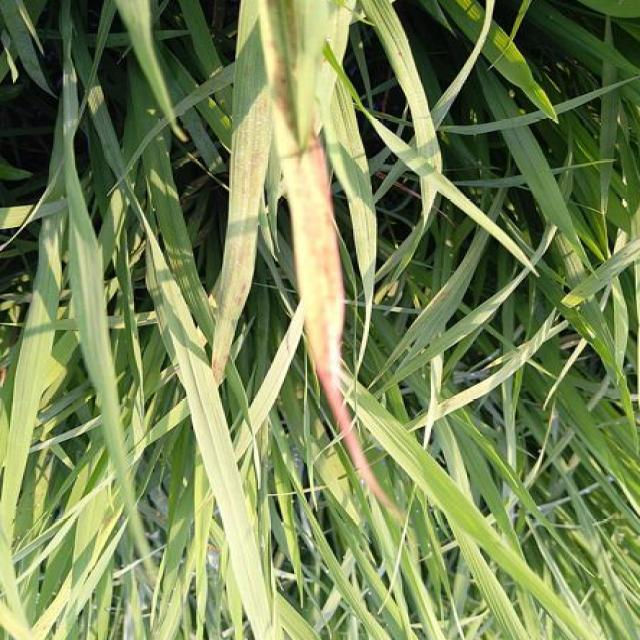Leaf Blight: (272, 16, 402, 520)
